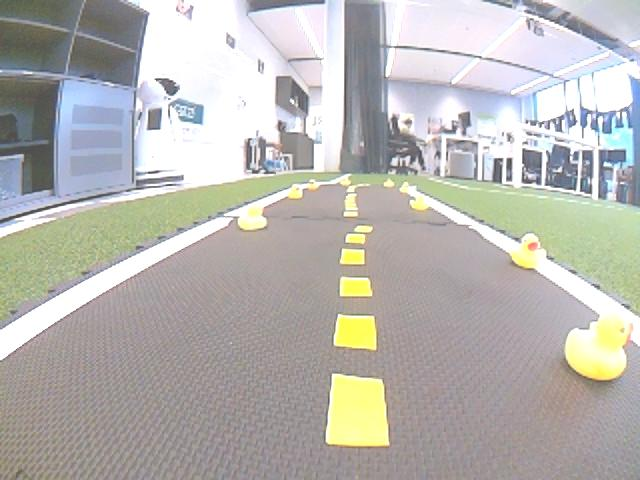Duckies: (562, 312, 634, 382), (512, 233, 542, 267), (236, 205, 269, 229), (410, 194, 427, 212), (290, 183, 301, 199), (306, 179, 318, 192), (383, 179, 396, 190), (400, 181, 408, 194)
